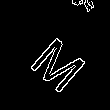M_NE: (21, 21, 89, 89)
